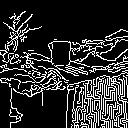cube: (40, 36, 75, 71)
